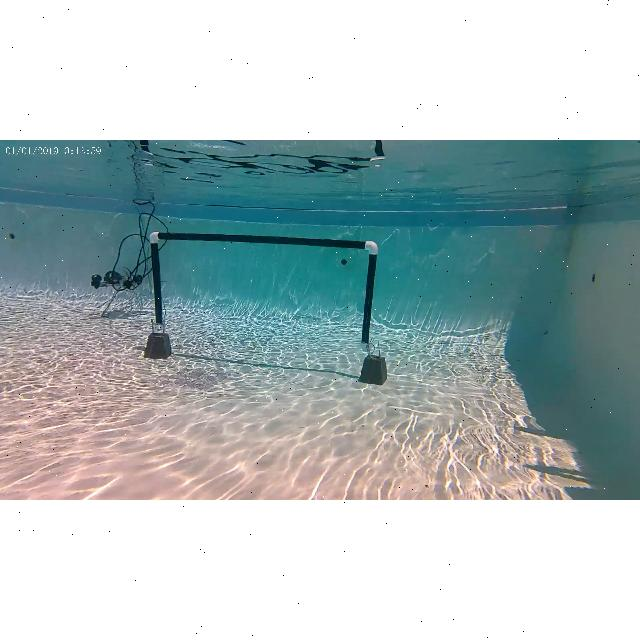prequal gate: (150, 232, 378, 351)
prequal gate leg l: (143, 230, 175, 356)
prequal gate leg r: (357, 236, 393, 384)
